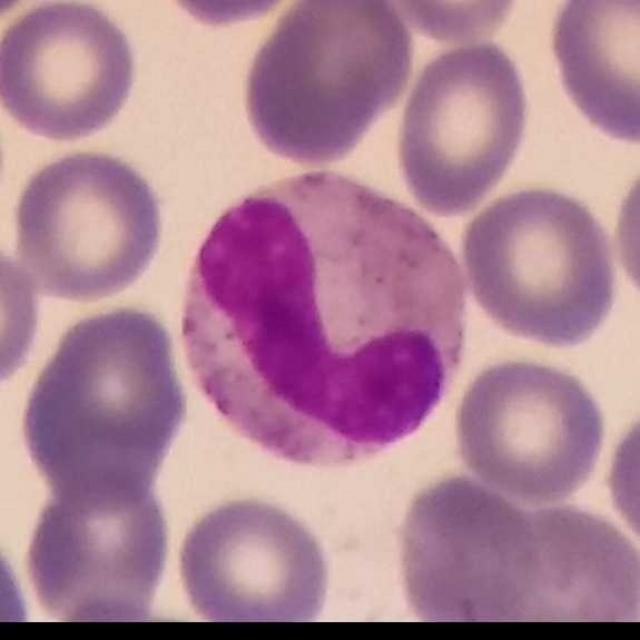eosino: (179, 165, 470, 469)
